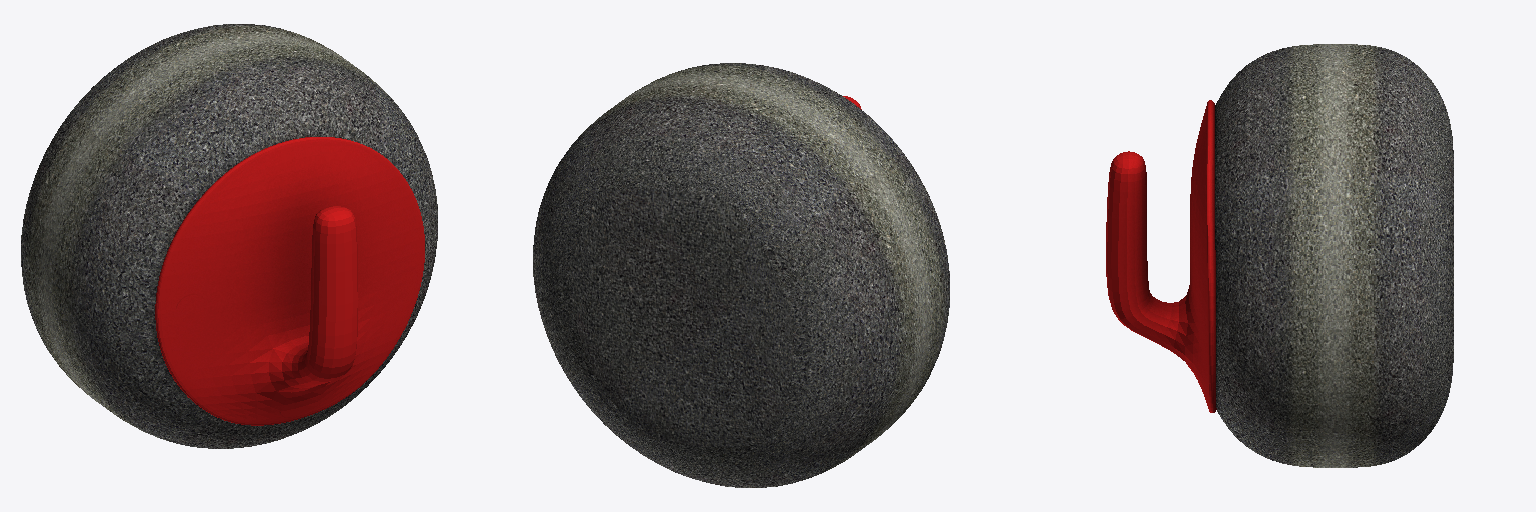
3 views of the same model, side by side, from view 1: azimuth 30°, elevation 25°; view 2: azimuth 150°, elevation 25°; view 3: azimuth 270°, elevation 25° (orthographic).
Visible parts, largest first — view 1: 11720_Curling_Stone; view 2: 11720_Curling_Stone; view 3: 11720_Curling_Stone.
Boxes of the visible parts, x1=… form: 11720_Curling_Stone: x1=21, y1=24, x2=437, y2=448; 11720_Curling_Stone: x1=533, y1=63, x2=949, y2=487; 11720_Curling_Stone: x1=1106, y1=44, x2=1453, y2=467.
Bounding box in the file's own units: 19.32 × 19.32 × 15.89.
1 materials, 1 textured.